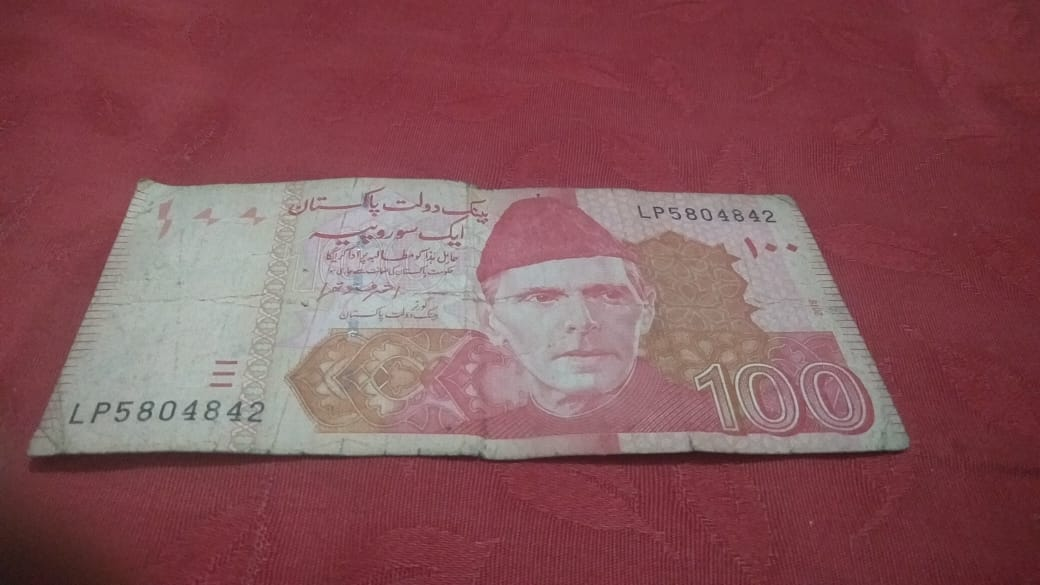100 rupee: (21, 159, 939, 484)
